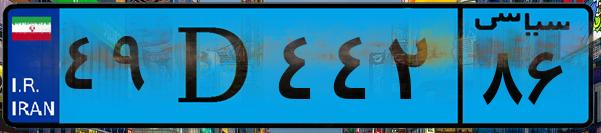2: (385, 28, 445, 110)
4: (270, 28, 330, 110), (330, 28, 385, 110), (57, 26, 110, 100)
6: (525, 38, 570, 115)
8: (475, 38, 525, 113)
9: (110, 28, 158, 98)
D: (158, 12, 270, 120)
